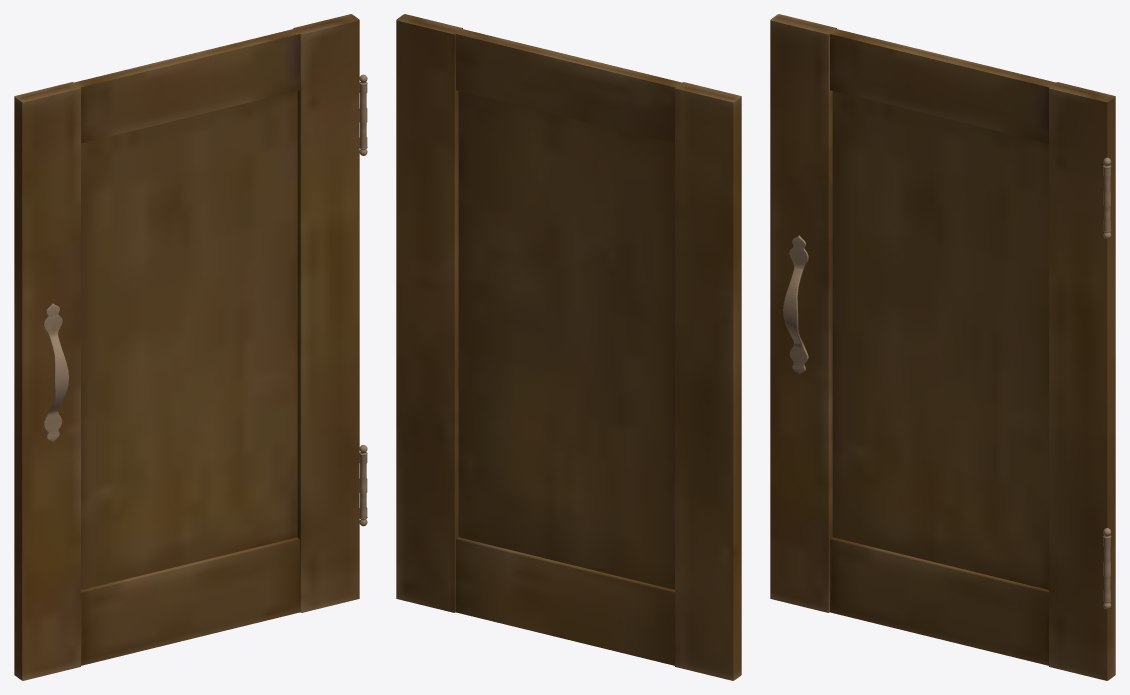
Rendered from SM_hanging_cupboard_door_02_dd6e95.glb.
3 renders of one model, left to right at view 1: azimuth 30°, elevation 25°; view 2: azimuth 150°, elevation 25°; view 3: azimuth 330°, elevation 25°, orthographic.
Size of the model in its own units: 0.3021 by 0.4872 by 0.0281.
Materials: 1 (1 with a texture image).
